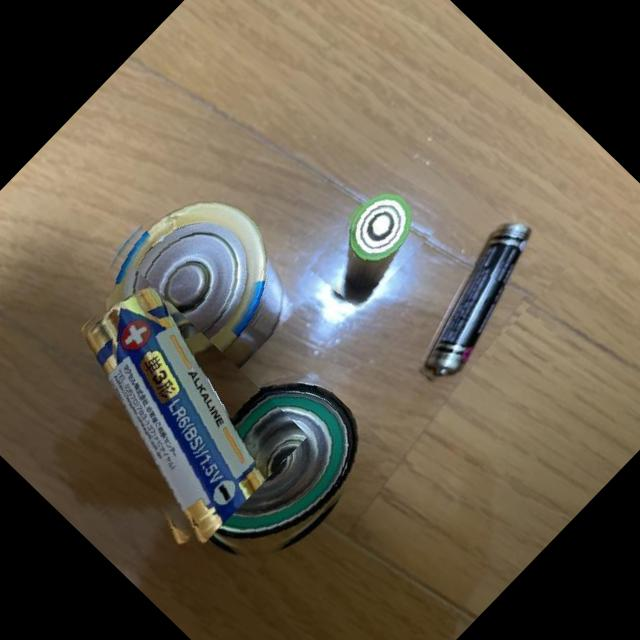Hazard: (13, 267, 308, 560), (68, 160, 323, 414), (156, 352, 394, 590), (382, 208, 570, 398), (301, 178, 436, 314)
